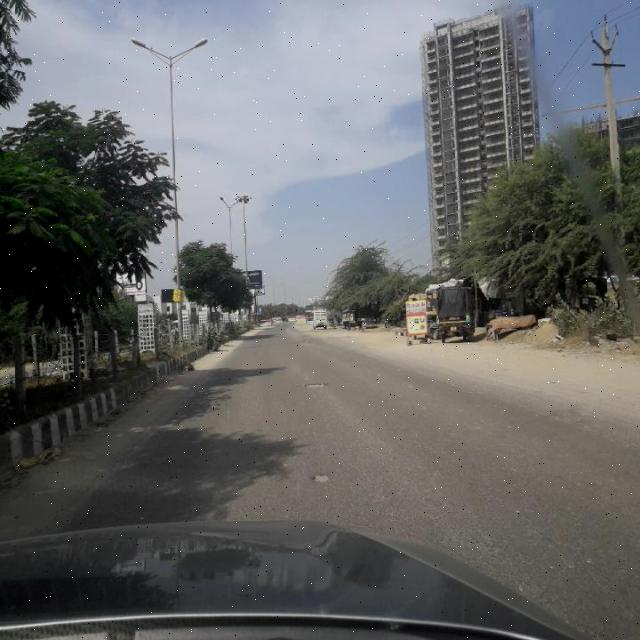D40: (304, 462, 342, 492), (300, 374, 330, 394)
